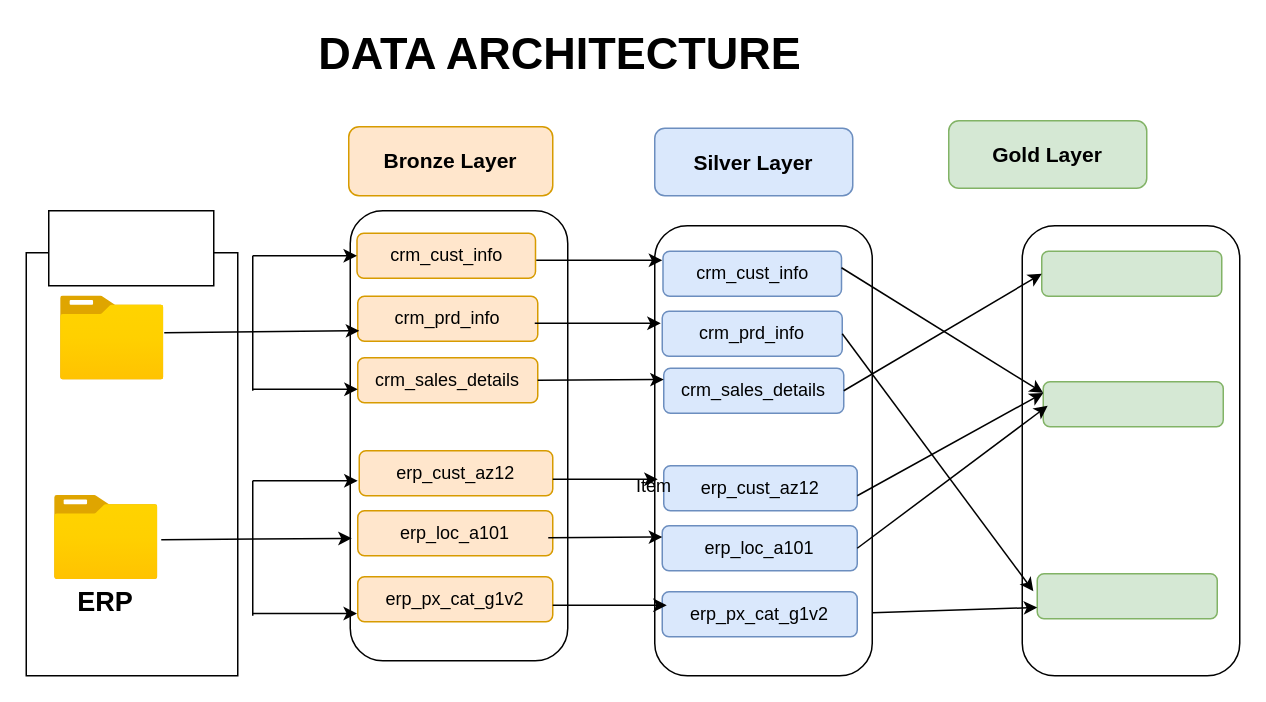
The diagram is 1266 pixels wide and 702 high, and some of its shapes have lost their labels. Here are the shapes that lost their labels. From the top down, the centre of each, then its label:
the point at 130,247: SOURCE
the point at 1131,273: fact_sales
the point at 112,338: CRM
the point at 1132,403: dim_customers
the point at 1126,595: dim_products
